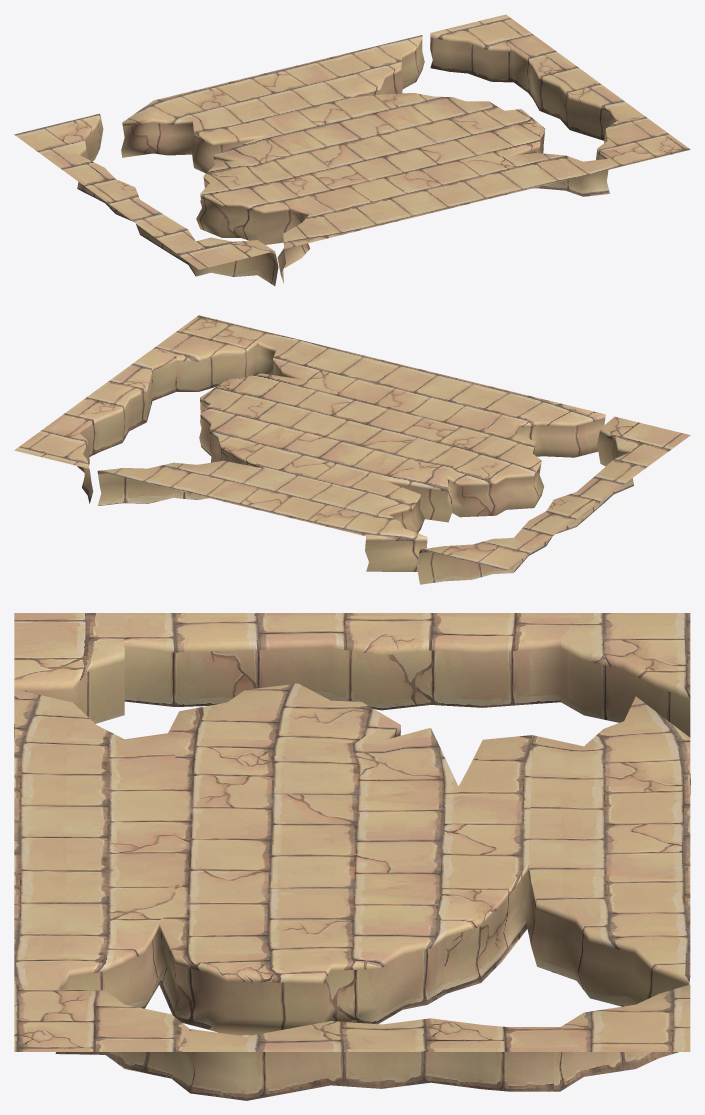
The model's file is BrokenFloor1.fbx.
3 views of the same model, one above another, from view 1: azimuth 30°, elevation 25°; view 2: azimuth 150°, elevation 25°; view 3: azimuth 270°, elevation 25° (orthographic). The views are drawn at different scales.
Visible parts, largest first — view 1: pCube2; view 2: pCube2; view 3: pCube2.
Boxes of the visible parts, x1,y1,x2,y2 form: pCube2: [14, 14, 690, 285]; pCube2: [14, 315, 690, 584]; pCube2: [14, 613, 690, 1100].
Bounding box in the file's own units: 2032 × 141 × 1325.
